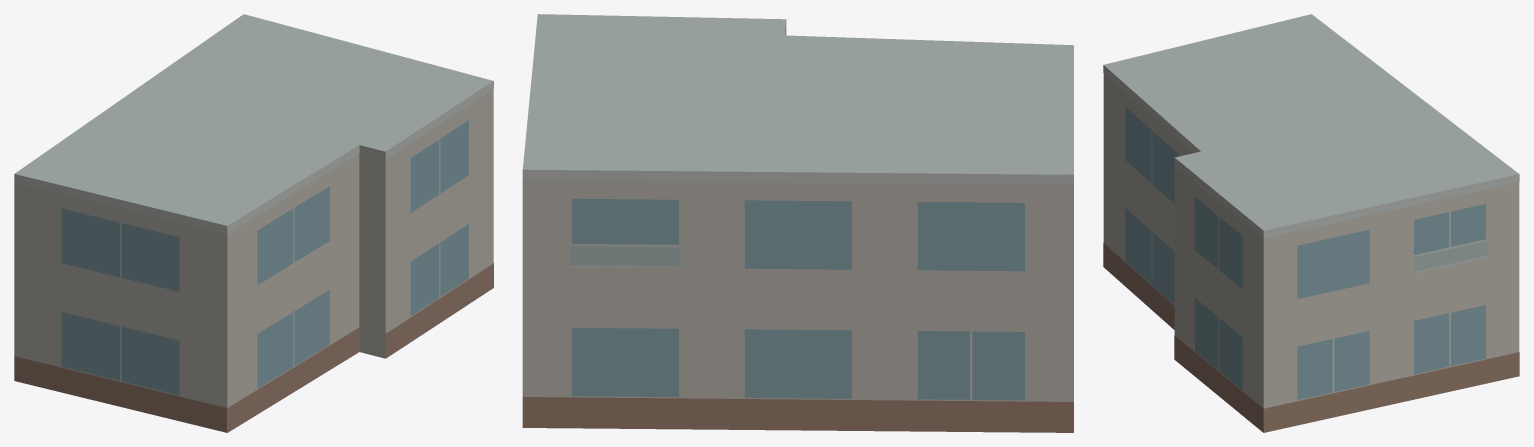
Rendered from survey-upis-32751364.glb.
3 renders of one model, left to right at view 1: azimuth 30°, elevation 25°; view 2: azimuth 150°, elevation 25°; view 3: azimuth 270°, elevation 25°, orthographic. The views are drawn at different scales.
Parts seen in each view (by area): view 1: survey-upis-32751364.tmp; view 2: survey-upis-32751364.tmp; view 3: survey-upis-32751364.tmp.
Boxes of the visible parts, x1=… form: survey-upis-32751364.tmp: x1=14, y1=14, x2=493, y2=432; survey-upis-32751364.tmp: x1=522, y1=14, x2=1073, y2=432; survey-upis-32751364.tmp: x1=1103, y1=14, x2=1519, y2=432.
Size of the model in its own units: 14.04 by 6.1 by 11.39.
